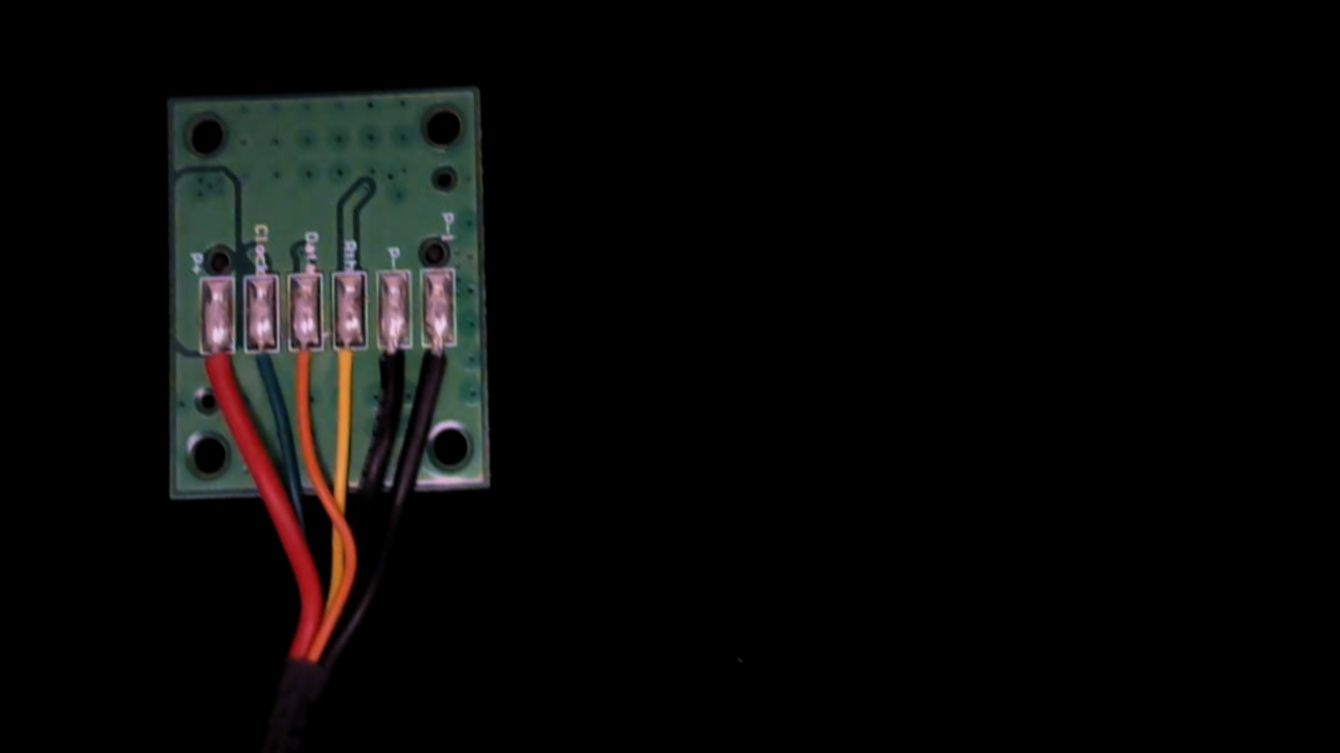Black: (377, 331, 410, 402)
Black1: (419, 330, 455, 400)
Green: (246, 334, 280, 399)
Orange: (288, 332, 320, 403)
Red: (195, 340, 235, 409)
Yellow: (331, 330, 363, 404)
